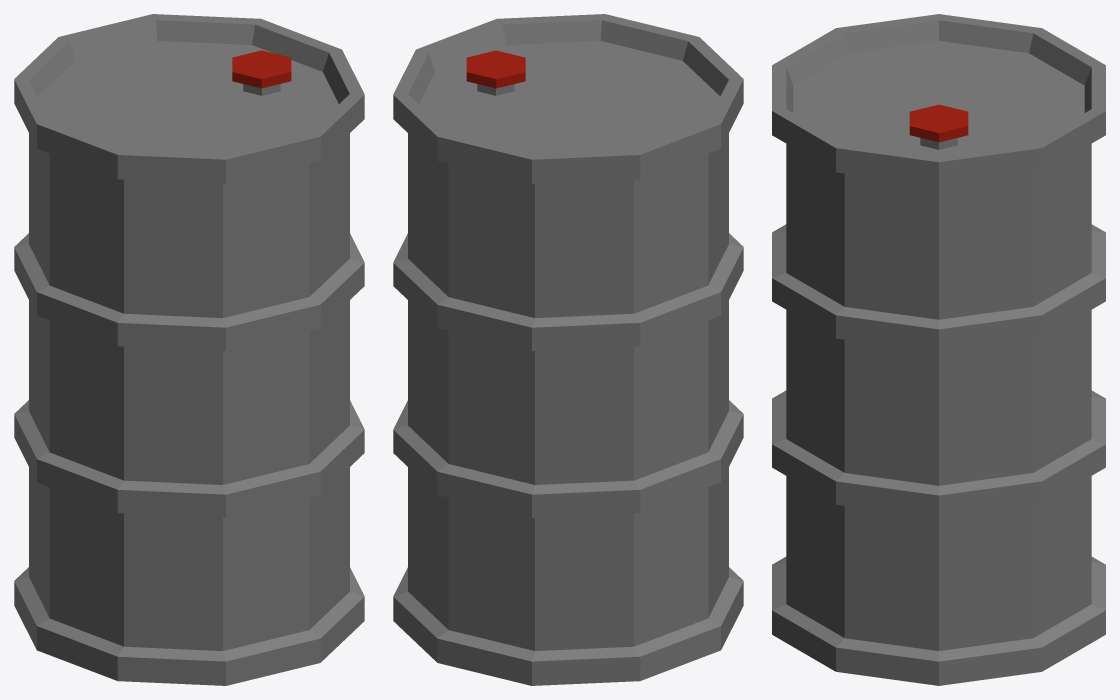
File: oil_barrel_3.FBX
3 views of the same model, side by side, from view 1: azimuth 30°, elevation 25°; view 2: azimuth 150°, elevation 25°; view 3: azimuth 270°, elevation 25° (orthographic).
Parts seen in each view (by area): view 1: oil_barrel_3; view 2: oil_barrel_3; view 3: oil_barrel_3.
Boxes of the visible parts, <box> form: oil_barrel_3: <box>14,14,364,685</box>; oil_barrel_3: <box>393,14,743,685</box>; oil_barrel_3: <box>772,14,1105,685</box>.
Bounding box in the file's own units: 0.7365 × 1.22 × 0.7005.
Materials: 1 (1 with a texture image).
